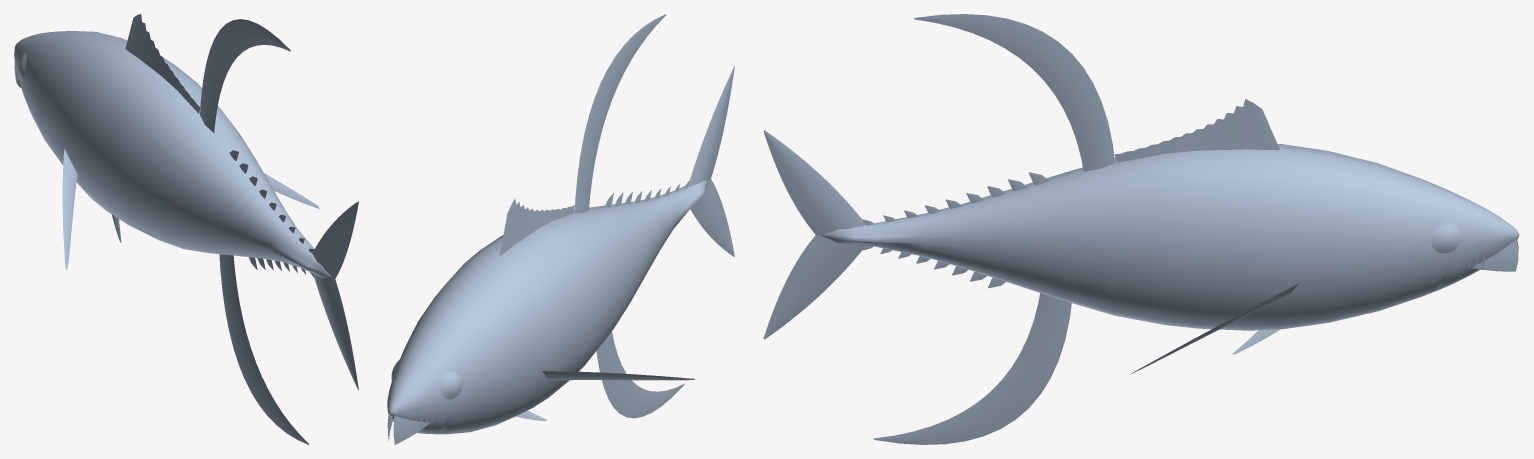
Rendered from yellowfin_tuna_game.glb.
3 renders of one model, left to right at view 1: azimuth 30°, elevation 25°; view 2: azimuth 150°, elevation 25°; view 3: azimuth 270°, elevation 25°, orthographic. The views are drawn at different scales.
Parts seen in each view (by area): view 1: yellowfin_tuna_game; view 2: yellowfin_tuna_game; view 3: yellowfin_tuna_game.
Part boxes in pixels (box(x1,y1,x2,y2)): yellowfin_tuna_game: box(14, 14, 358, 444); yellowfin_tuna_game: box(387, 14, 734, 444); yellowfin_tuna_game: box(763, 14, 1519, 444).
Bounding box in the file's own units: 0.6409 × 0.9426 × 1.5.
